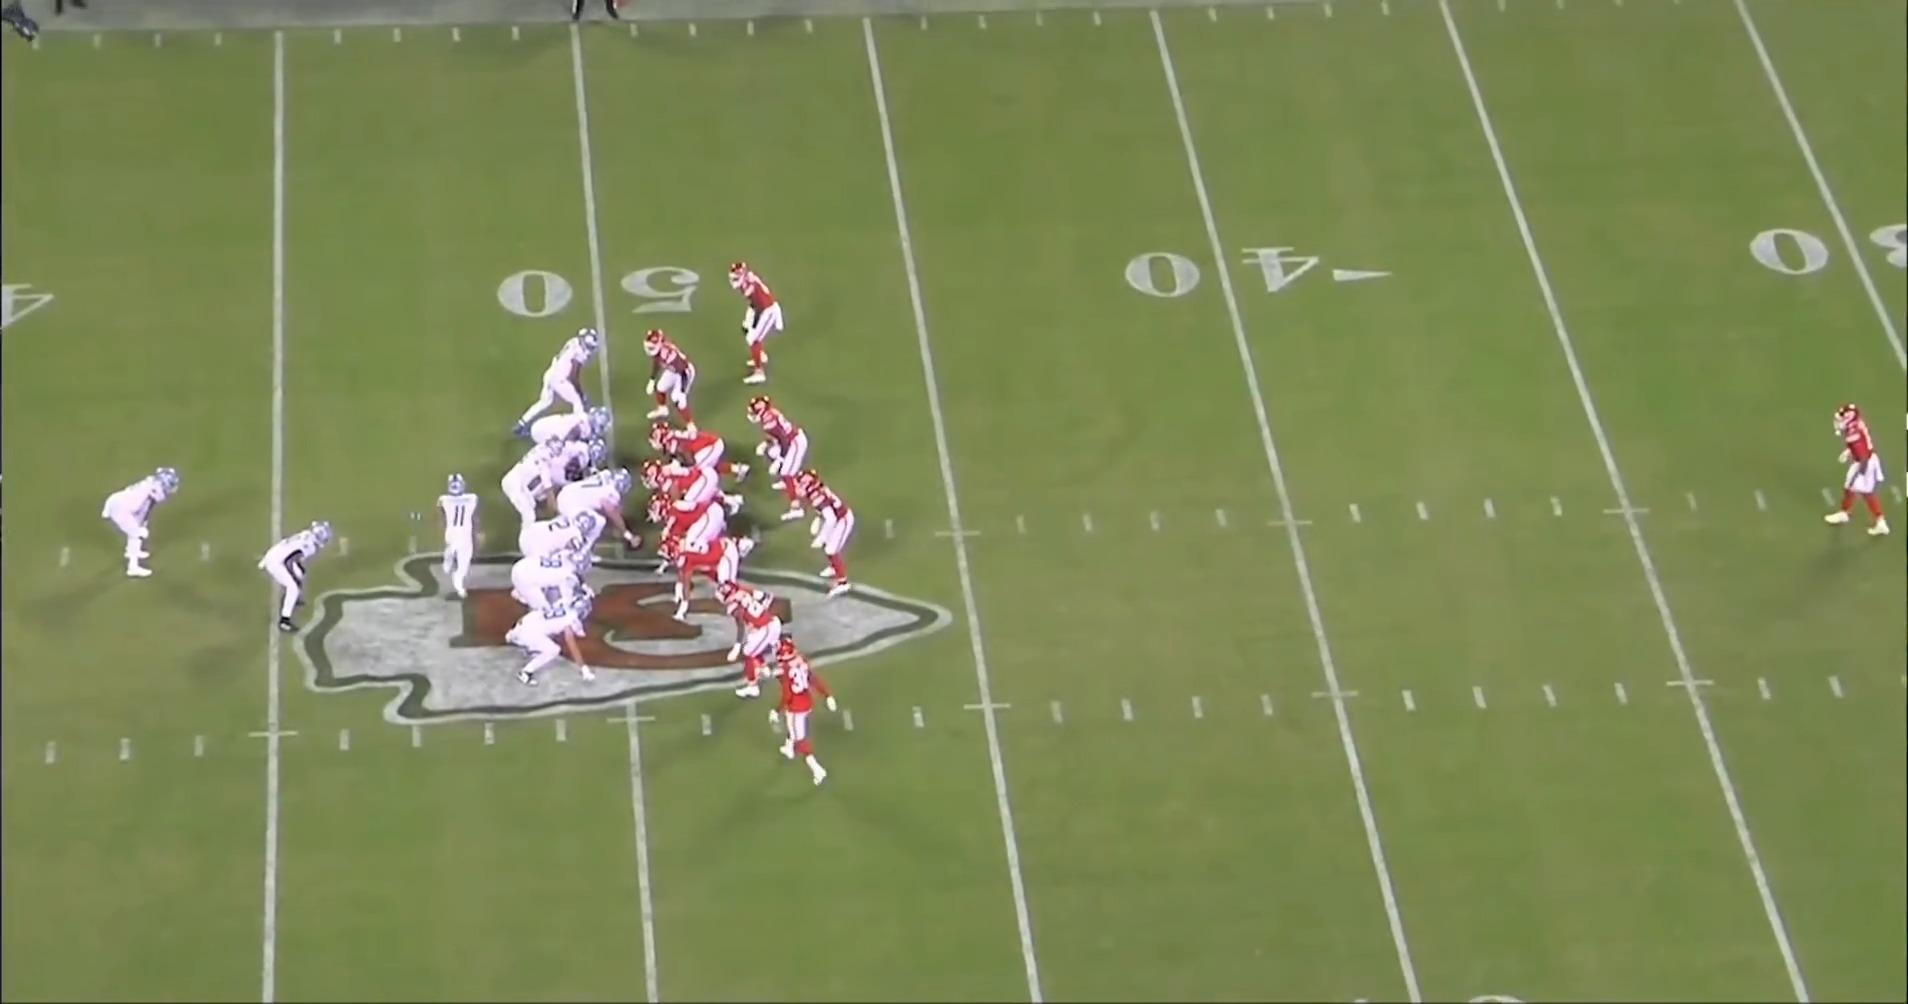player: (513, 325, 609, 440), (767, 640, 839, 793), (105, 460, 192, 584), (656, 524, 764, 619), (509, 589, 604, 695), (261, 515, 343, 636), (1815, 400, 1885, 540), (654, 481, 750, 576), (507, 548, 598, 648), (746, 396, 817, 523), (791, 474, 859, 603), (547, 467, 635, 564), (422, 468, 480, 610), (730, 256, 790, 389), (715, 579, 780, 699), (637, 332, 698, 439), (506, 441, 573, 537), (644, 462, 742, 525), (661, 426, 758, 489), (514, 506, 597, 577), (527, 408, 611, 457), (538, 439, 610, 488)
